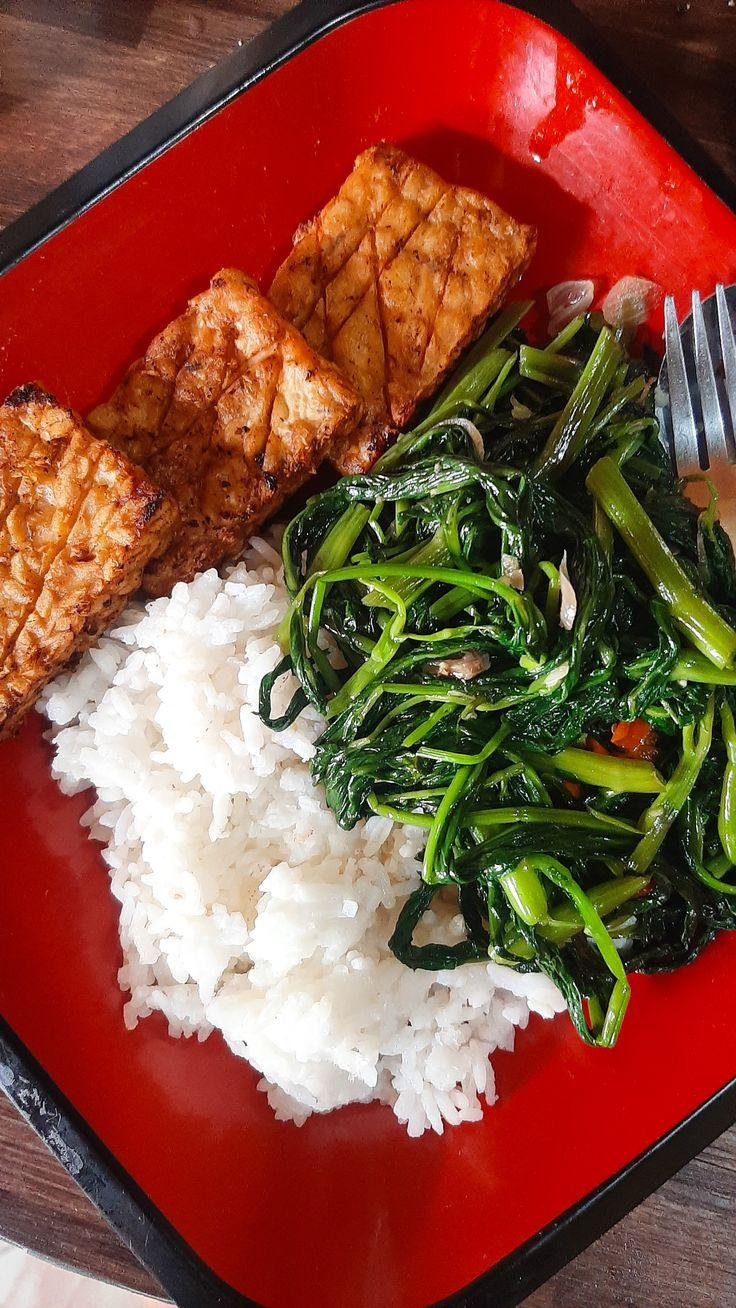buah_sayur_lainnya: (402, 500, 689, 798)
kacang_legume: (317, 216, 457, 351), (0, 455, 99, 618), (155, 358, 287, 480)
makanan_berpati: (140, 641, 259, 976)
